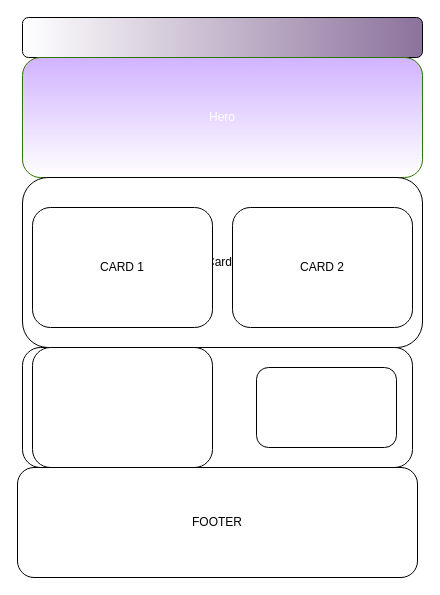
The diagram is 440 pixels wide and 595 high, and some of its shapes have lost their labels. The box of each missing label's shape, as (x1, y1, x2, y2) in pixels:
ABOUT THE DRINK: (256, 366, 396, 448)
COCKTAILsSIMPLE: (22, 16, 422, 58)
IMAGE: (32, 346, 212, 468)
